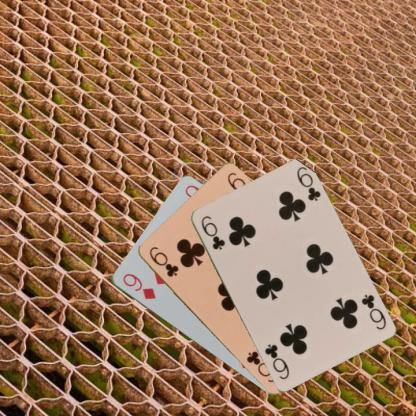6c: (358, 291, 387, 331), (146, 244, 180, 278), (198, 213, 226, 251)
9d: (119, 270, 156, 301)
